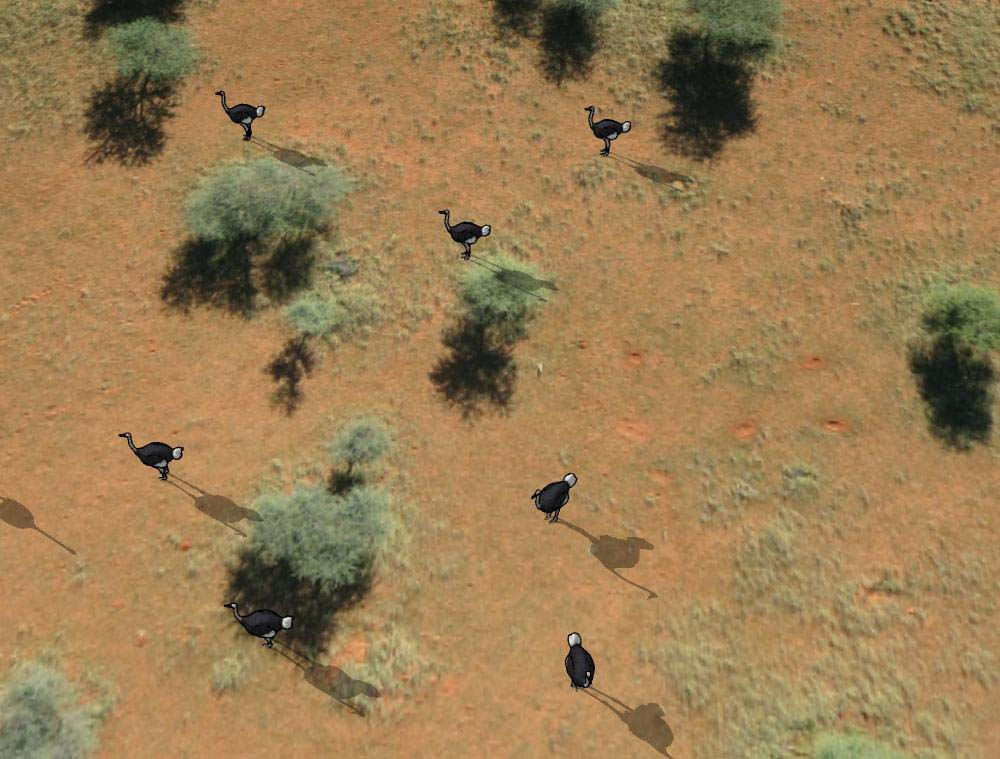ostrich: (116, 426, 187, 481), (225, 595, 294, 648), (439, 203, 491, 260), (576, 103, 630, 155), (529, 472, 579, 525), (217, 89, 265, 144), (563, 629, 599, 695)
